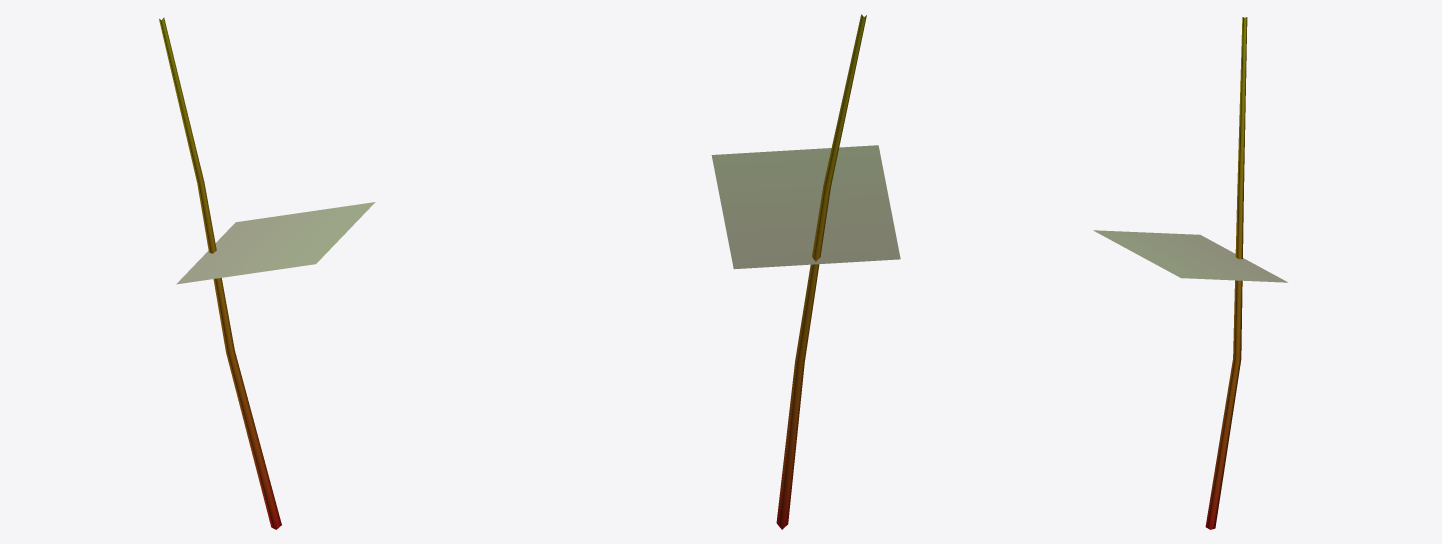
The model's file is nettle_a.glb.
3 renders of one model, left to right at view 1: azimuth 30°, elevation 25°; view 2: azimuth 150°, elevation 25°; view 3: azimuth 270°, elevation 25°, orthographic. The views are drawn at different scales.
Visible parts, largest first — view 1: LOD0; view 2: LOD0; view 3: LOD0.
Boxes of the visible parts, left/top/right/bottom form: LOD0: left=159, top=17, right=375, bottom=529; LOD0: left=711, top=14, right=900, bottom=529; LOD0: left=1093, top=17, right=1287, bottom=529.
Size of the model in its own units: 0.4149 by 0.5396 by 0.3846.
